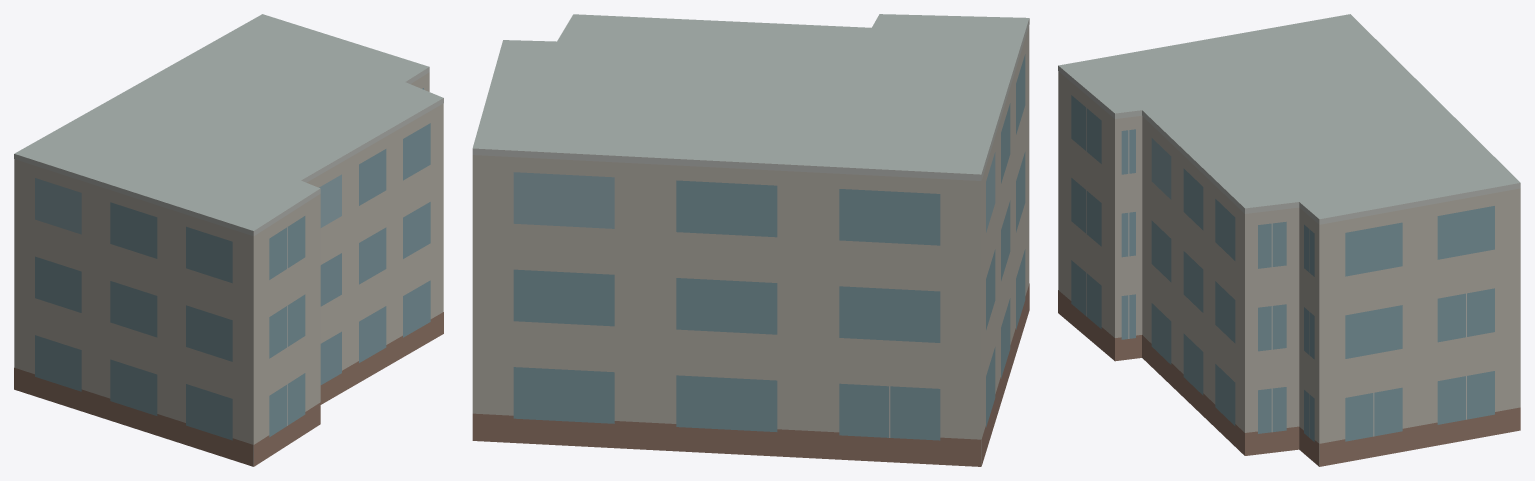
File: survey-upis-33016505.glb
The picture shows the model from 3 angles, left to right: view 1: azimuth 30°, elevation 25°; view 2: azimuth 150°, elevation 25°; view 3: azimuth 270°, elevation 25°; orthographic projection. The views are drawn at different scales.
Visible parts, largest first — view 1: survey-upis-33016505.tmp; view 2: survey-upis-33016505.tmp; view 3: survey-upis-33016505.tmp.
Part boxes in pixels (left/top/right/bottom): survey-upis-33016505.tmp: left=14, top=14, right=443, bottom=466; survey-upis-33016505.tmp: left=472, top=14, right=1029, bottom=466; survey-upis-33016505.tmp: left=1058, top=14, right=1520, bottom=466.
Bounding box in the file's own units: 19.39 × 10.9 × 18.46.
